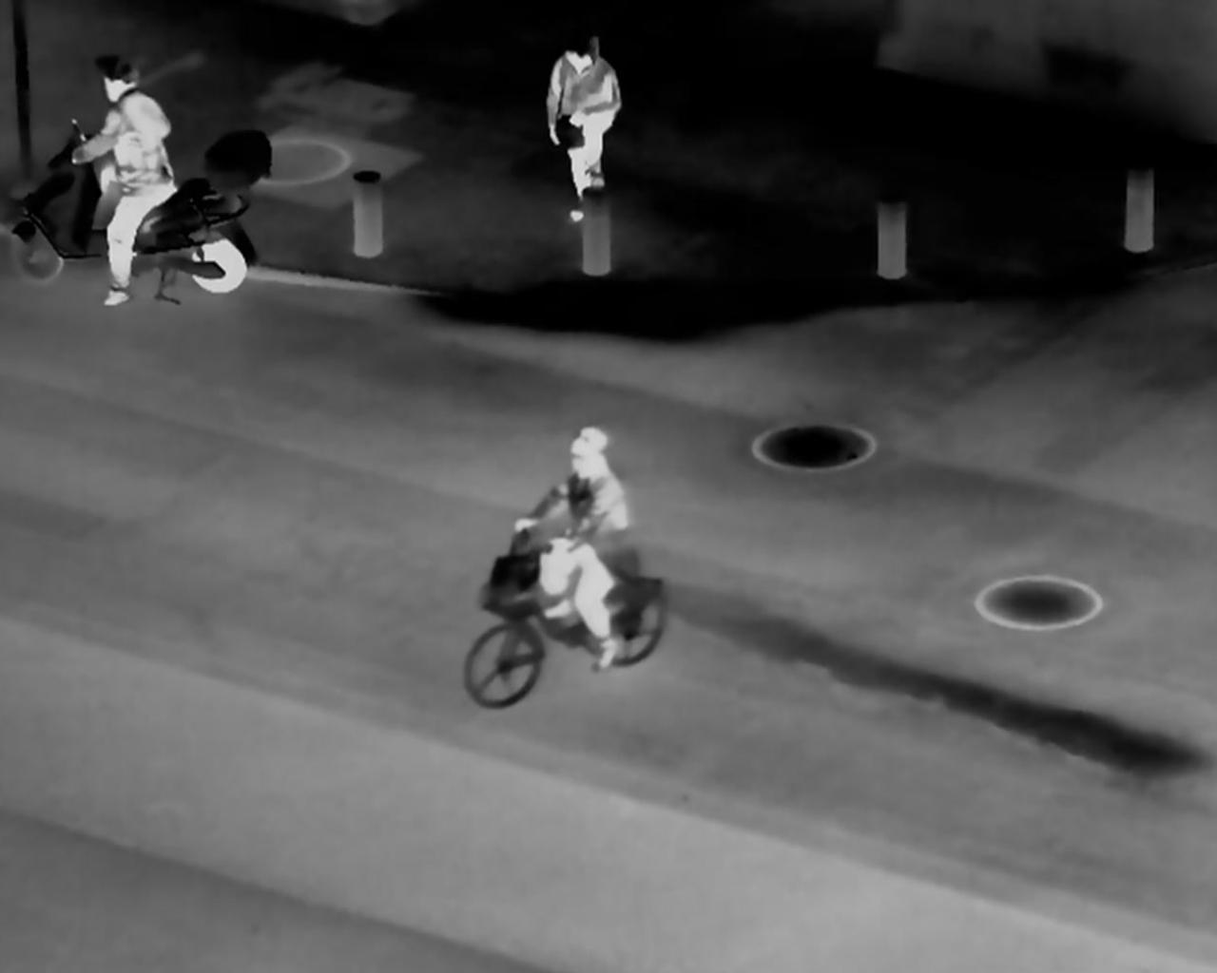person: (497, 411, 640, 687), (67, 53, 191, 318), (539, 23, 633, 226)
